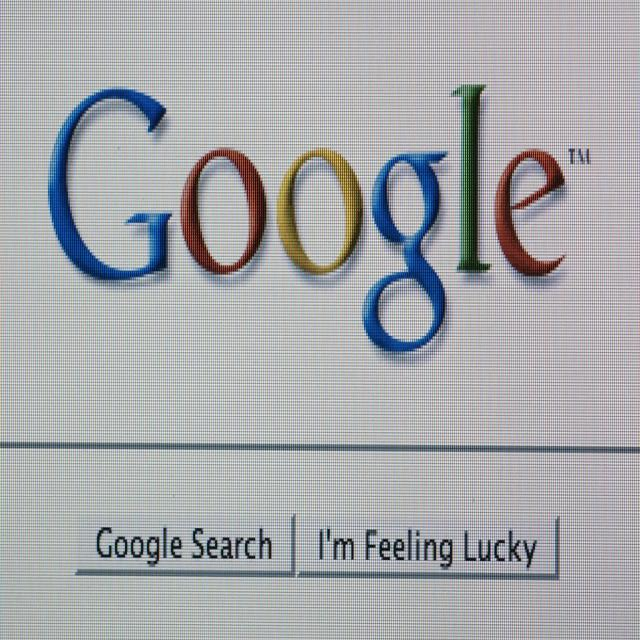google: (44, 69, 578, 361)
